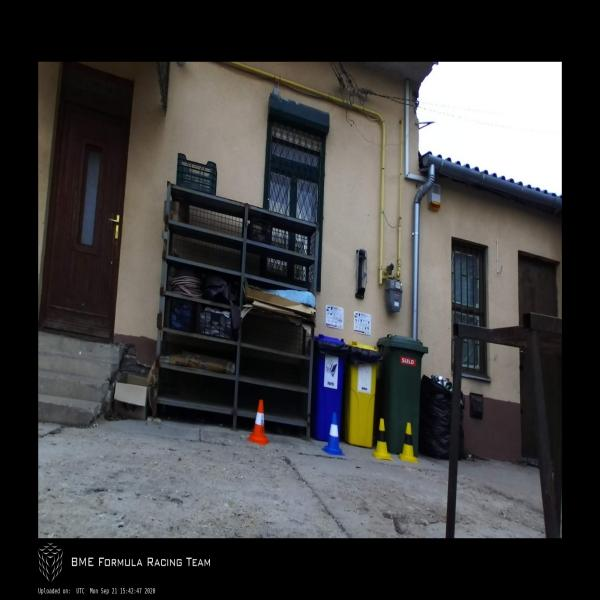blue_cone: (321, 413, 345, 456)
orange_cone: (248, 400, 270, 446)
yellow_cone: (372, 419, 392, 462), (398, 421, 417, 461)
